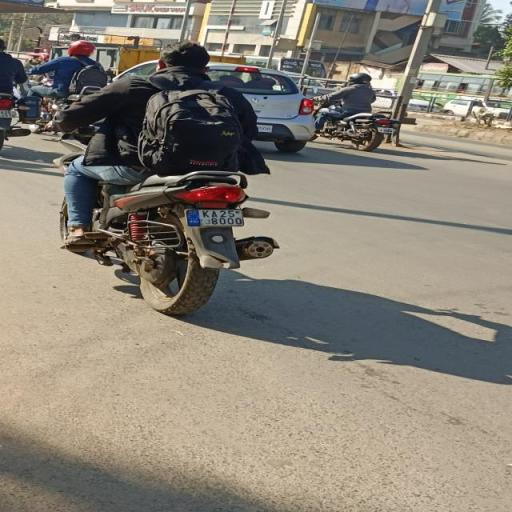bike: (36, 40, 302, 317)
numberplate: (188, 209, 249, 227)
withouthelmet: (163, 44, 212, 68)
